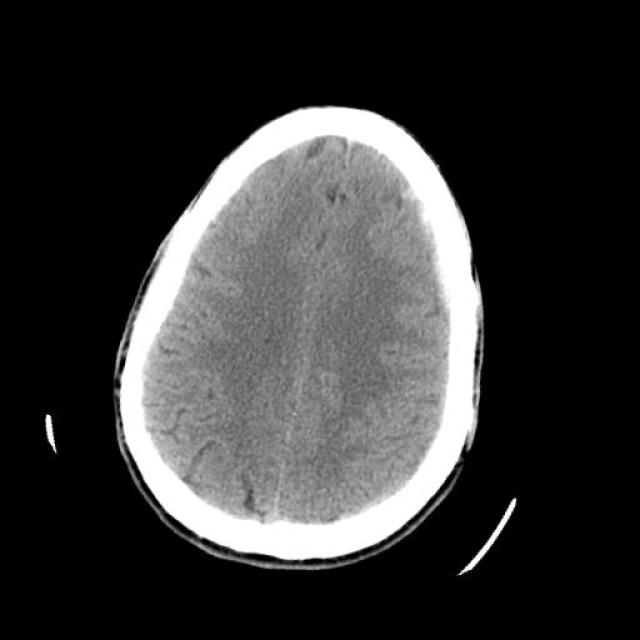Subdural: (365, 180, 496, 361)
